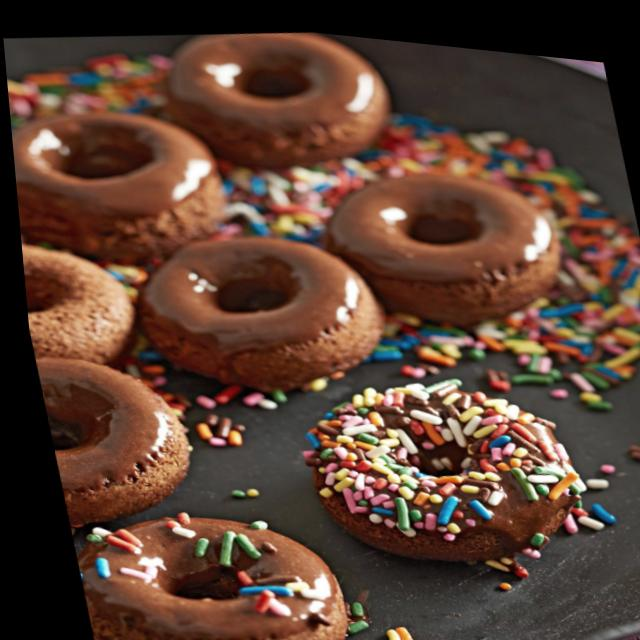donut: (279, 345, 583, 576), (122, 205, 392, 399), (309, 135, 569, 327), (55, 482, 351, 640), (146, 12, 407, 189), (6, 82, 233, 273), (25, 337, 198, 527), (16, 226, 142, 379)
